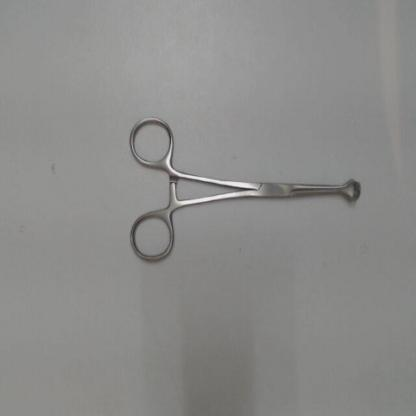Babcock Tissue Forceps: (125, 111, 364, 269)
